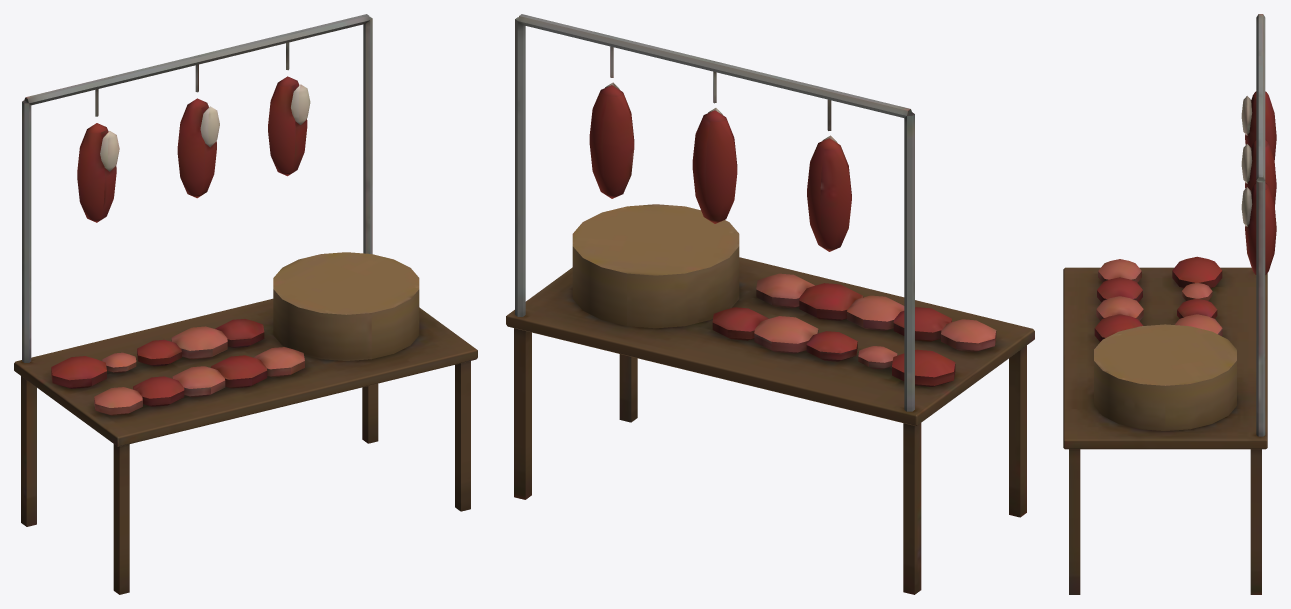
Rendered from meat_table.glb.
The picture shows the model from 3 angles, left to right: view 1: azimuth 30°, elevation 25°; view 2: azimuth 150°, elevation 25°; view 3: azimuth 270°, elevation 25°; orthographic projection. The views are drawn at different scales.
Visible parts, largest first — view 1: body; view 2: body; view 3: body.
Boxes of the visible parts, <box> form: body: <box>14,14,477,594</box>; body: <box>506,14,1034,594</box>; body: <box>1063,14,1276,594</box>.
Bounding box in the file's own units: 1.8 × 2.02 × 0.94.
Materials: 1 (1 with a texture image).
